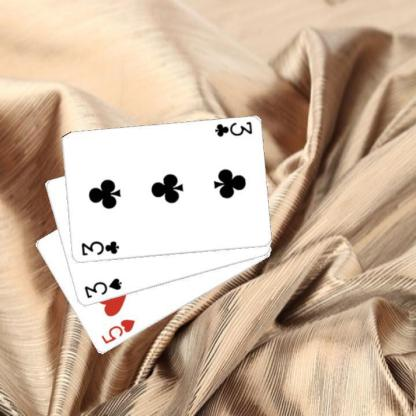3C: (212, 119, 253, 138), (79, 239, 120, 257)
3S: (82, 275, 123, 300)
5H: (98, 316, 136, 346)
